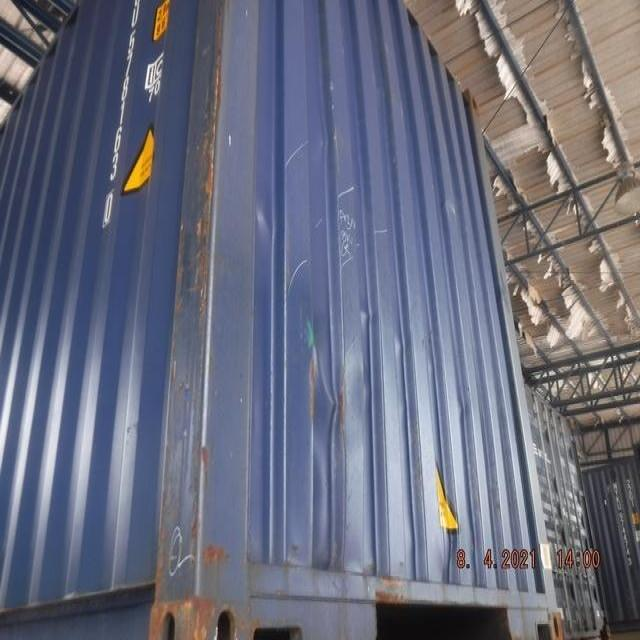dent: (306, 348, 350, 455)
